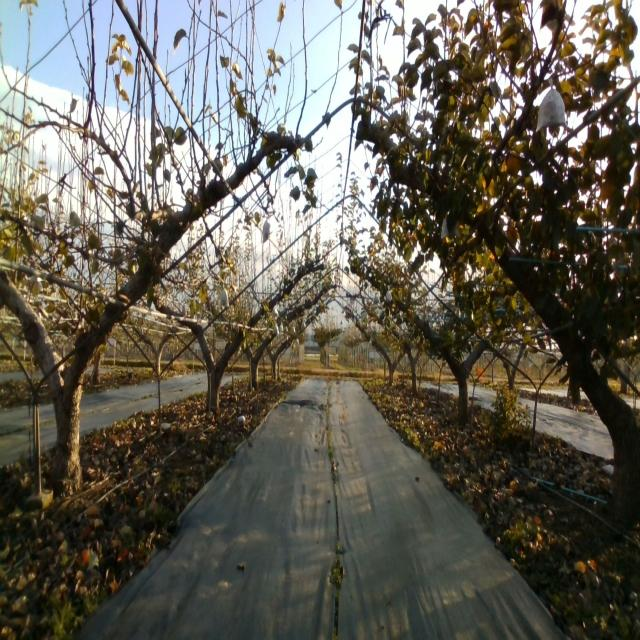pearbags: (535, 78, 568, 132), (219, 283, 230, 307)
